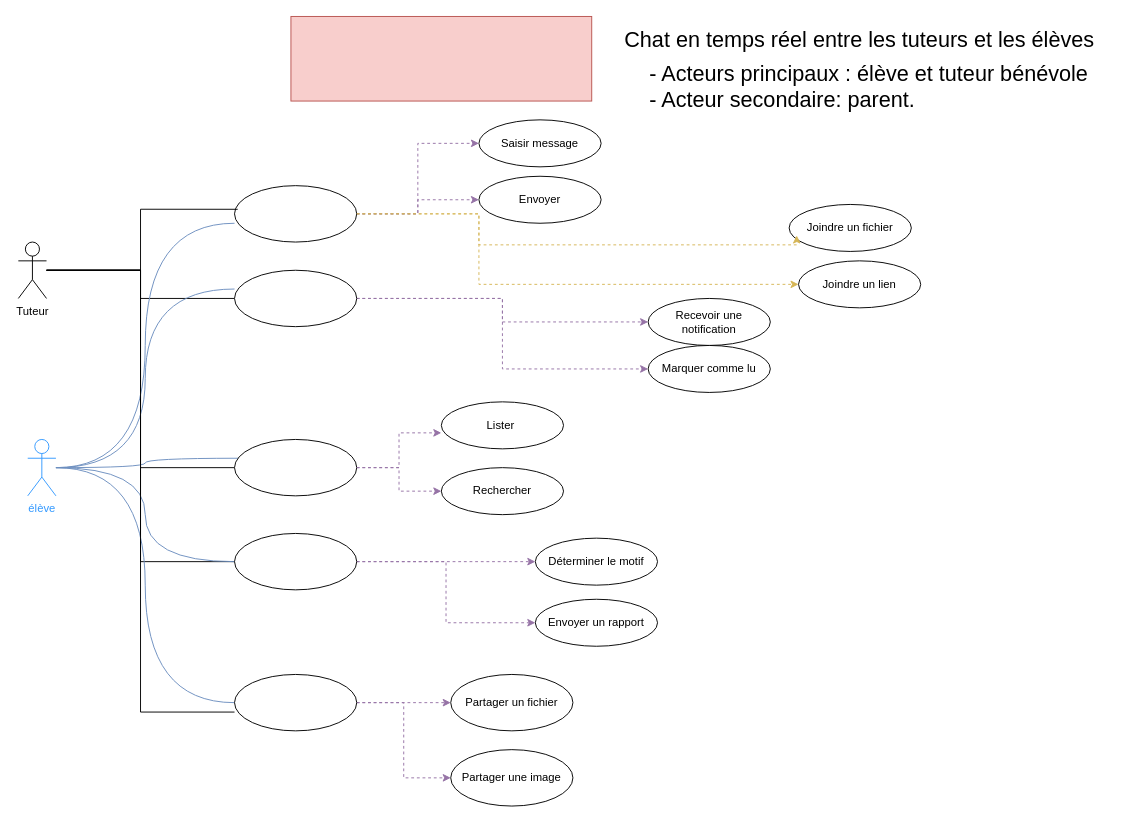
Some shapes in this 1143 by 823 pixel diagram are drawn without their labels. The centre of each missing label's shape, as x and y in pixels:
"Alerter sur un contenu" goes at point (295, 561).
"Ecrire sur le chat" goes at point (295, 213).
"Messagerie" goes at point (441, 58).
"Organiser ses discussions" goes at point (295, 467).
"Partager un document" goes at point (295, 702).
"Recevoir un message" goes at point (295, 298).
